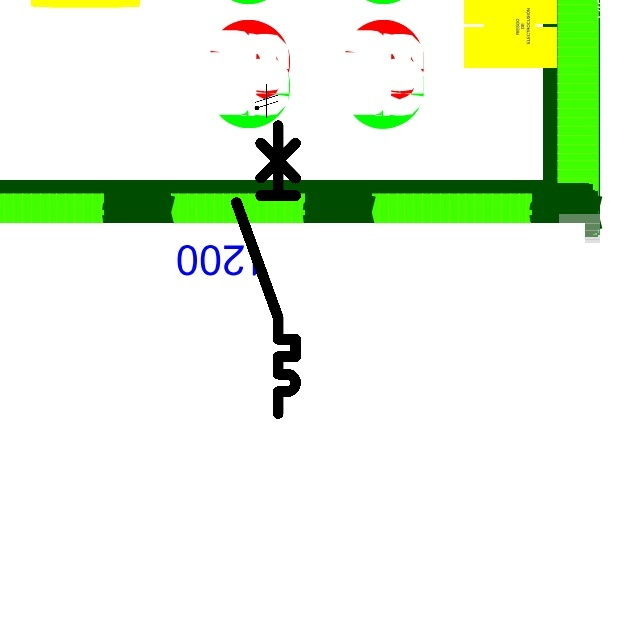interruptor_termomagnetico: (229, 118, 303, 421)
